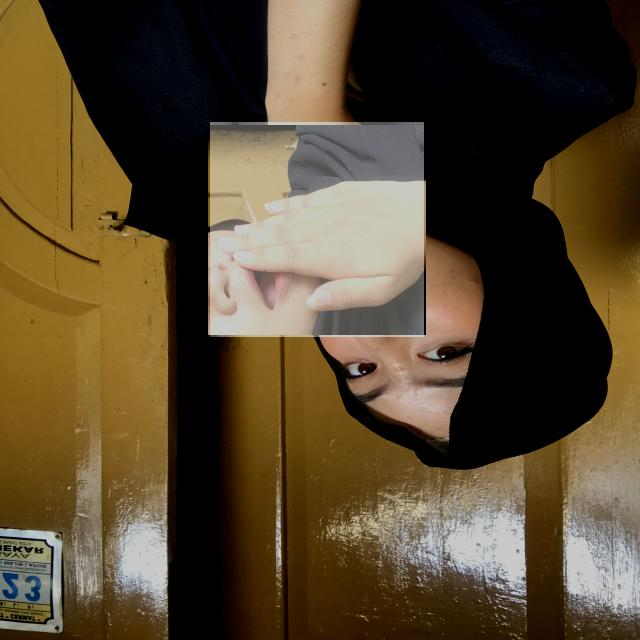ngantuk: (210, 122, 424, 337)
